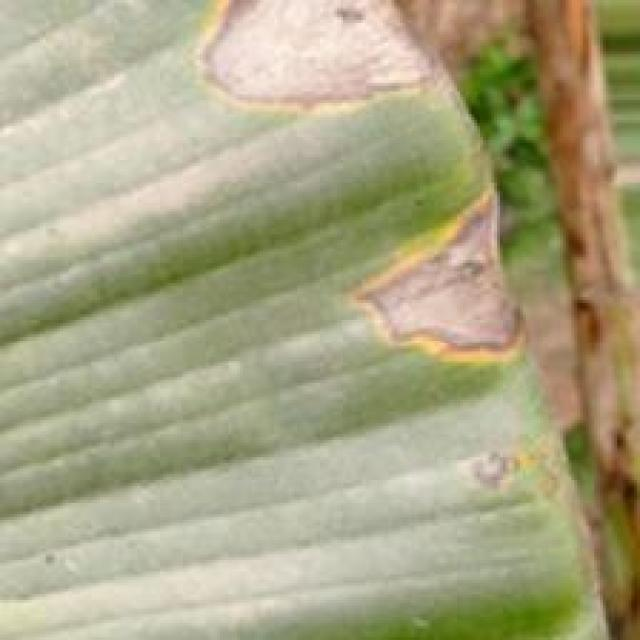Bacterial_spot: (352, 167, 530, 363), (166, 0, 459, 117), (470, 409, 584, 538)
